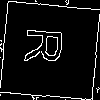R: (24, 25, 73, 66)
